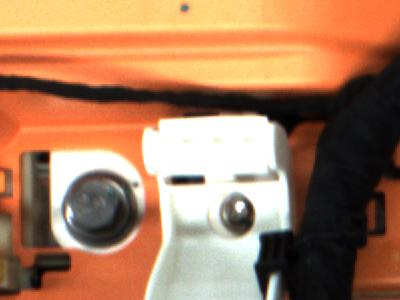nut_b: (60, 168, 143, 249)
